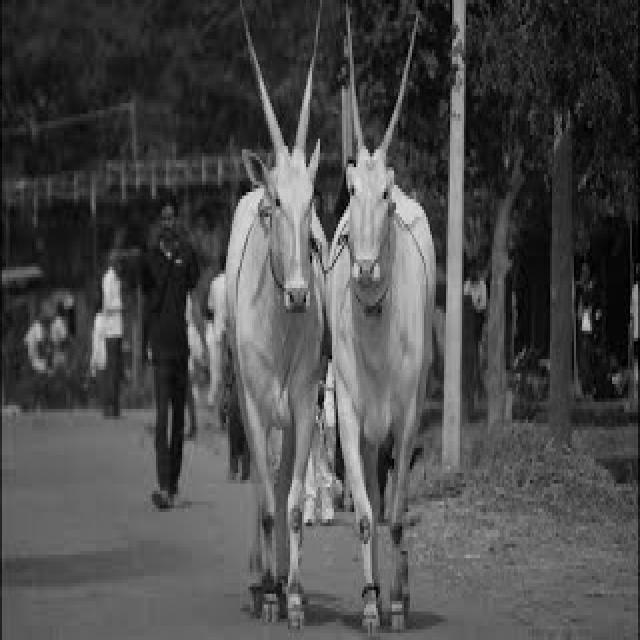Cow: (328, 48, 456, 616), (187, 122, 320, 580)
